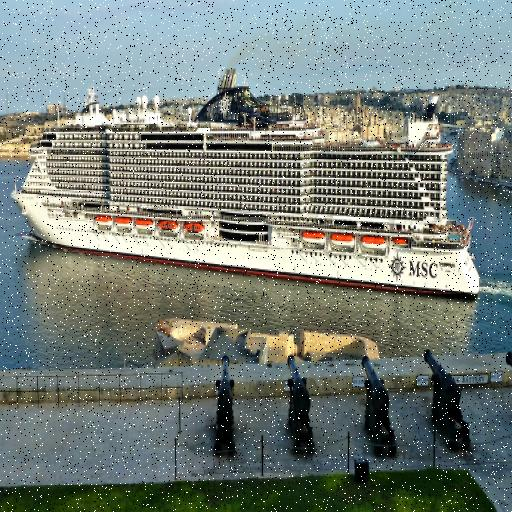cruises: (4, 65, 485, 310)
